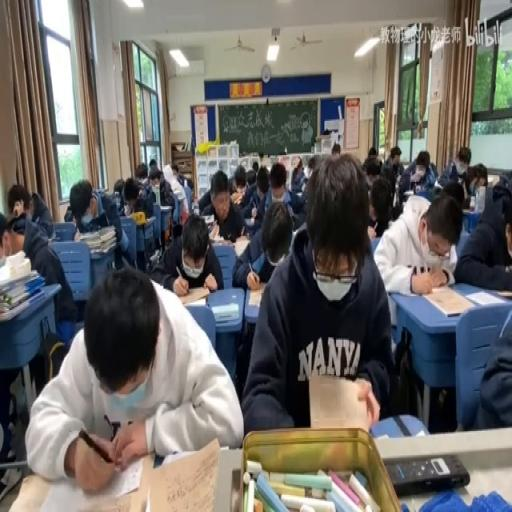calculator: (6, 448, 154, 509), (145, 436, 221, 512), (306, 373, 372, 432), (0, 253, 45, 320), (177, 286, 209, 306), (210, 300, 238, 322), (464, 289, 503, 304), (245, 284, 267, 308), (234, 234, 250, 258), (90, 209, 108, 229), (210, 233, 232, 246), (148, 247, 160, 266), (208, 222, 219, 240), (278, 155, 290, 171), (230, 189, 242, 202), (486, 175, 499, 186), (461, 205, 474, 215), (202, 213, 214, 222), (143, 216, 155, 225), (300, 175, 307, 188), (244, 216, 254, 225), (192, 200, 198, 214), (434, 179, 443, 188), (46, 235, 56, 243), (403, 189, 414, 196), (296, 190, 304, 198), (183, 176, 187, 186)
paper: (26, 266, 242, 488), (242, 151, 396, 432), (373, 186, 460, 319), (454, 172, 512, 293), (65, 178, 129, 274), (150, 210, 222, 293), (469, 294, 511, 430), (196, 166, 246, 238), (4, 184, 54, 254), (251, 161, 293, 222), (366, 176, 396, 238), (397, 150, 435, 196), (144, 160, 176, 214), (286, 155, 310, 216), (438, 145, 470, 189), (463, 166, 485, 198), (237, 185, 257, 219), (441, 180, 465, 208), (383, 145, 403, 178), (362, 155, 381, 186), (122, 179, 141, 209), (170, 162, 188, 186), (112, 176, 125, 205), (196, 188, 211, 213), (134, 160, 148, 184), (306, 154, 320, 174), (179, 196, 189, 220), (393, 179, 400, 209), (245, 168, 255, 186), (64, 206, 74, 222), (258, 179, 267, 196), (260, 154, 270, 169), (293, 164, 302, 179), (331, 142, 341, 155), (366, 145, 376, 157), (148, 158, 157, 168), (252, 160, 258, 170)
person: (383, 452, 469, 494), (229, 468, 240, 510)
